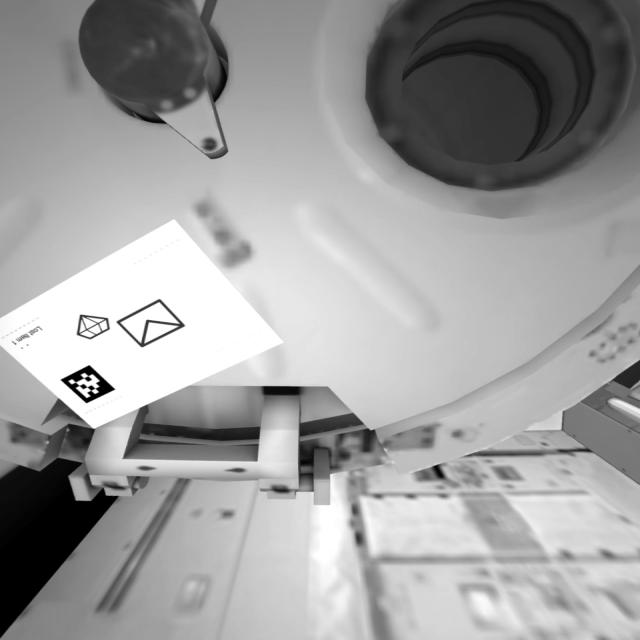diamond: (72, 312, 116, 343)
letter: (115, 298, 192, 349)
